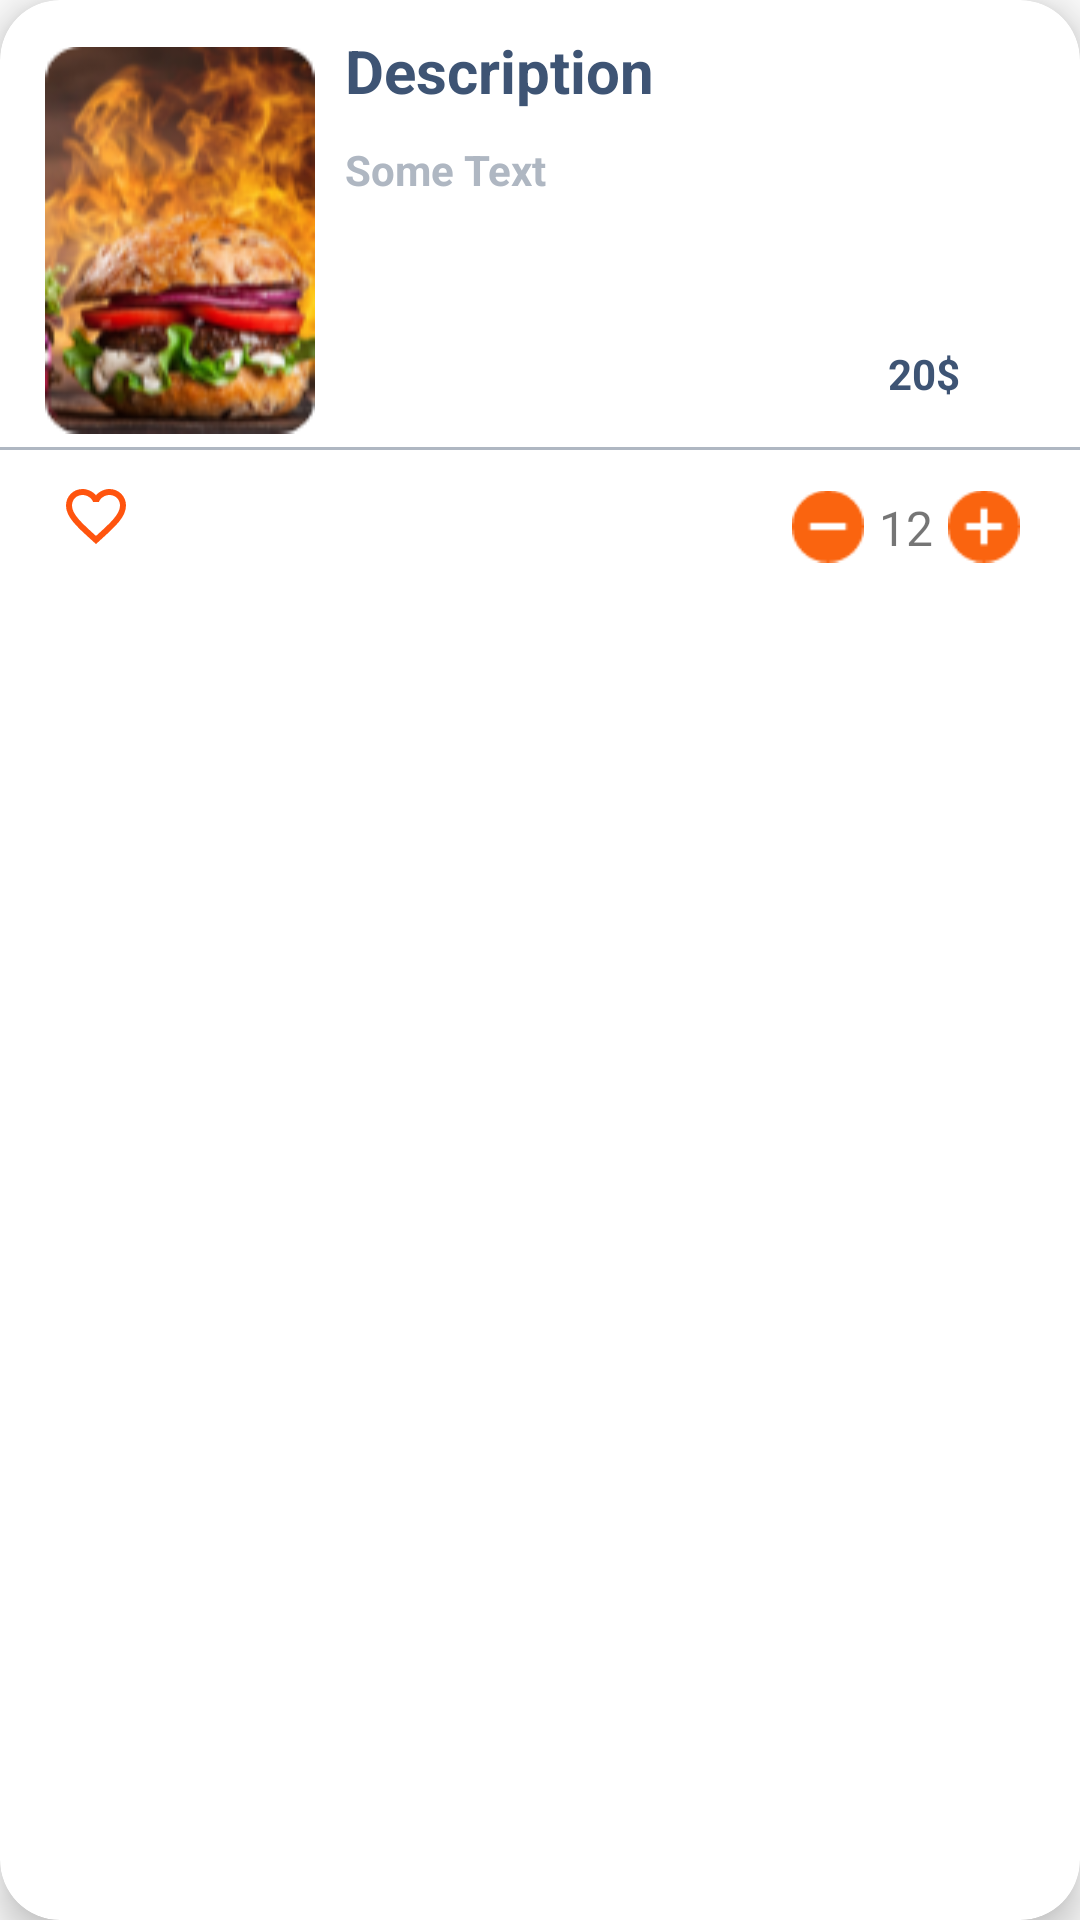

Locate icon controls on the screen. Image size 1080 x 1920, boxes as (x1, y1, x2, y2).
favorite border: (66, 489, 126, 544)
minus: (792, 491, 864, 563)
plus: (948, 491, 1020, 563)
